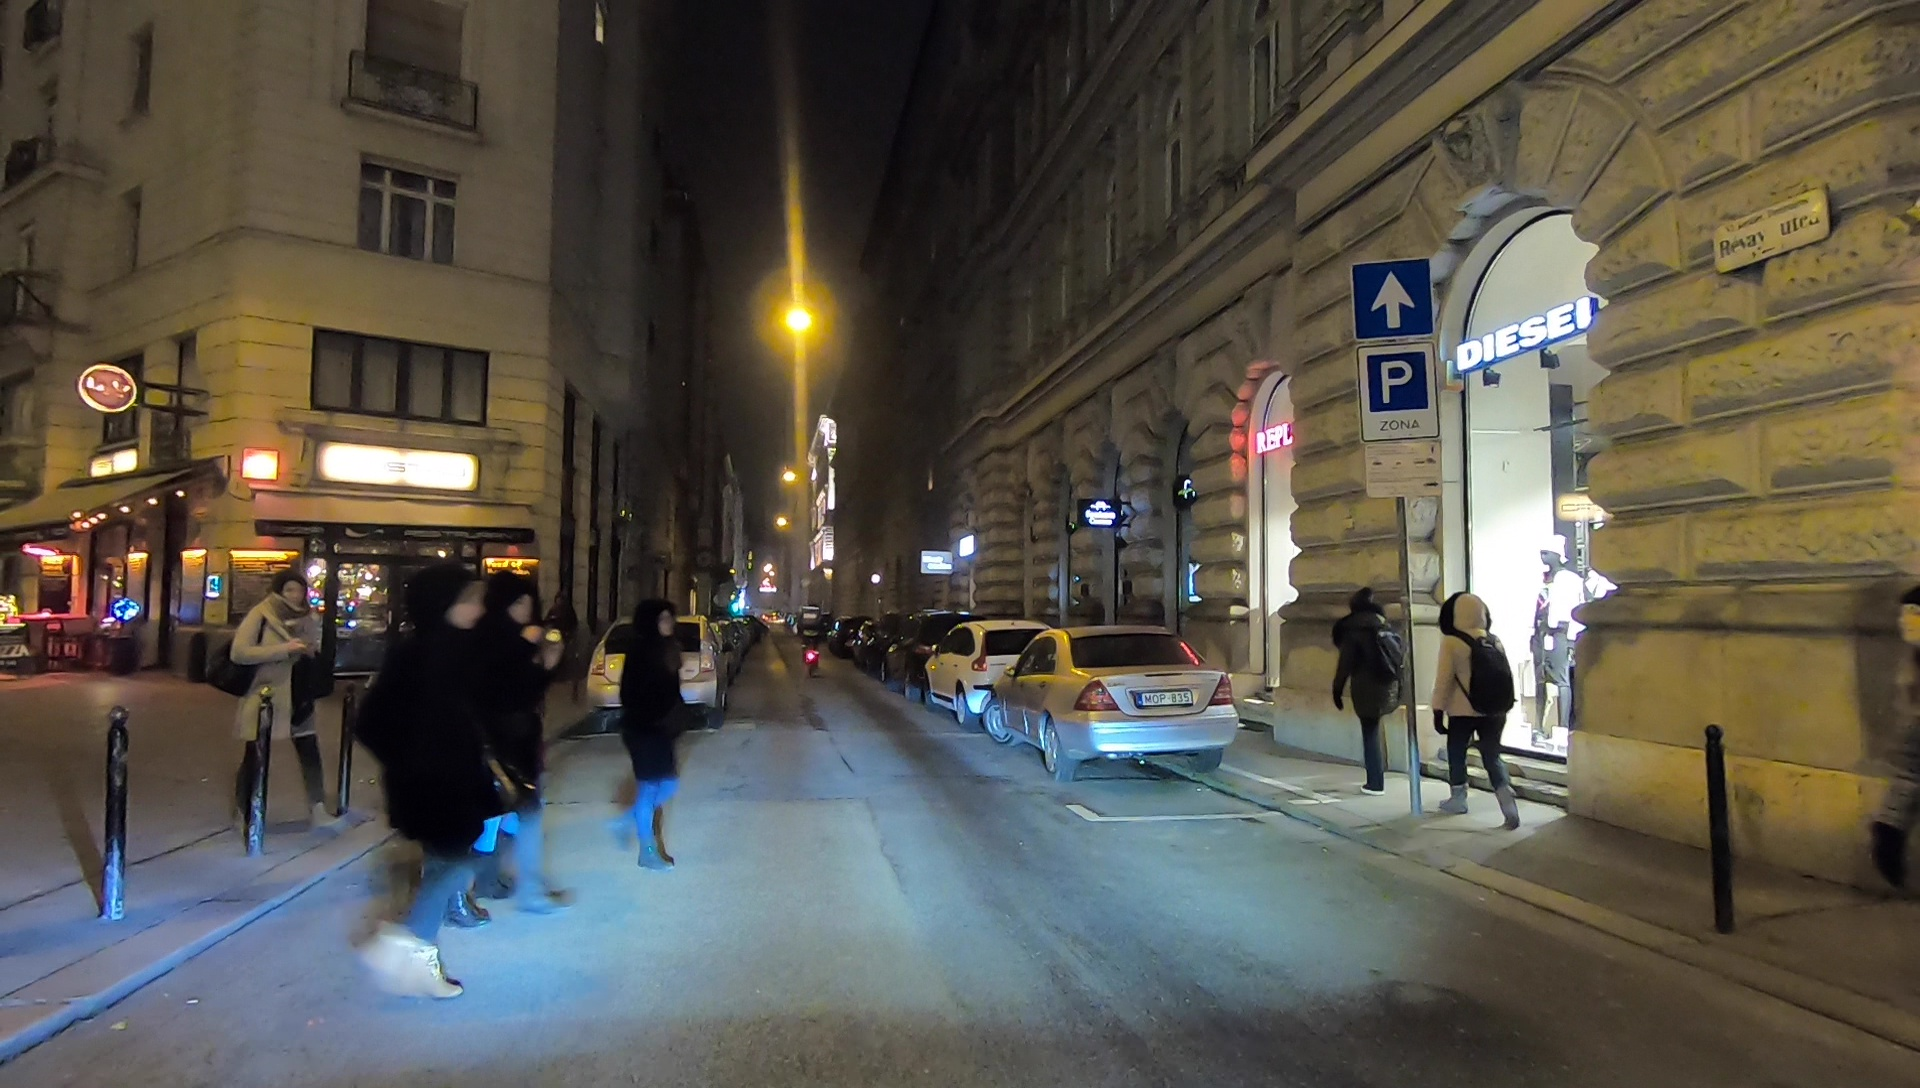person: (351, 556, 473, 1000), (456, 560, 571, 930), (226, 573, 354, 830), (602, 587, 688, 874), (1432, 587, 1523, 821), (1321, 580, 1406, 797)
